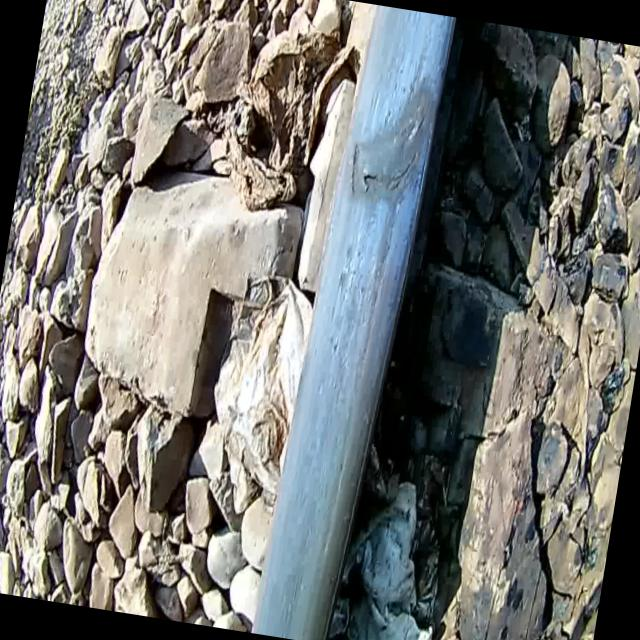Squats: (321, 54, 458, 230)
